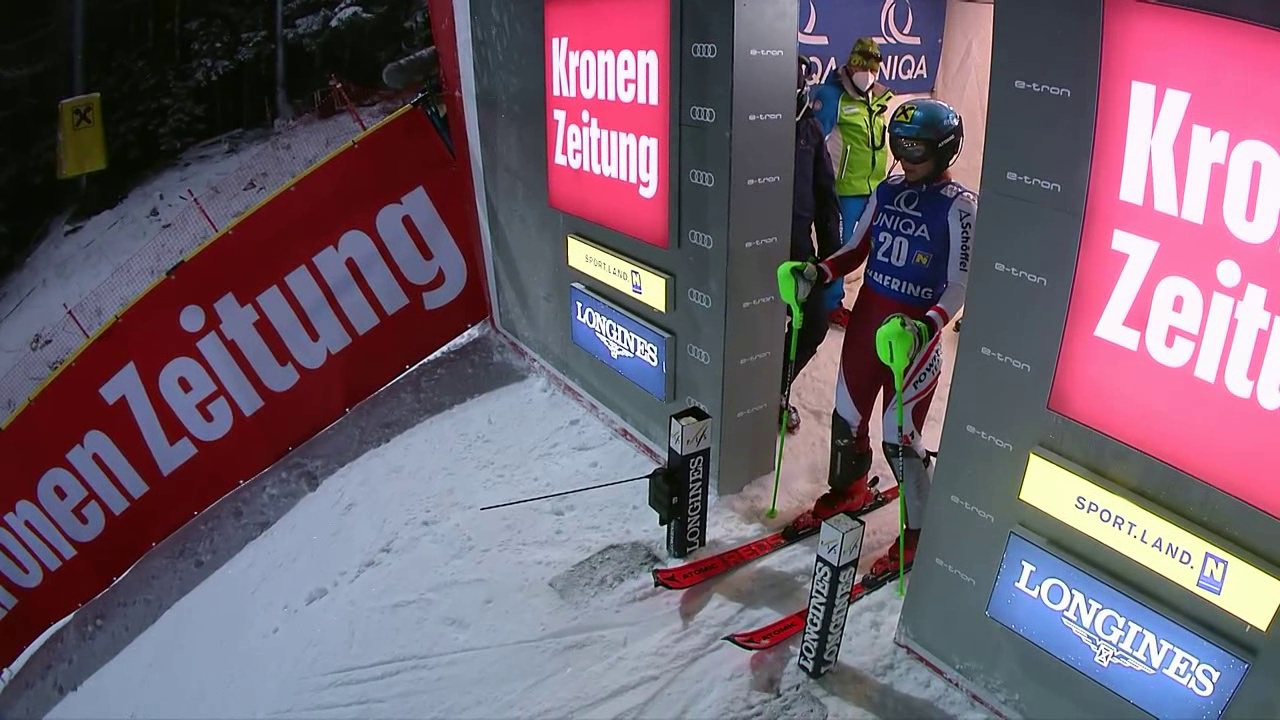audi: (684, 102, 721, 129), (686, 165, 719, 192), (688, 40, 723, 64), (686, 227, 717, 254), (686, 340, 713, 369), (687, 286, 716, 312)
etron: (962, 419, 1019, 454), (979, 340, 1031, 373), (1007, 75, 1075, 100), (992, 256, 1045, 285), (1006, 164, 1061, 191), (748, 106, 786, 126), (750, 43, 785, 62)
kronenzeitung: (558, 36, 653, 203)
longines: (973, 556, 1225, 715), (794, 536, 857, 693), (563, 294, 668, 380), (682, 439, 712, 557)
uniqa: (870, 1, 931, 91), (877, 192, 935, 246)
